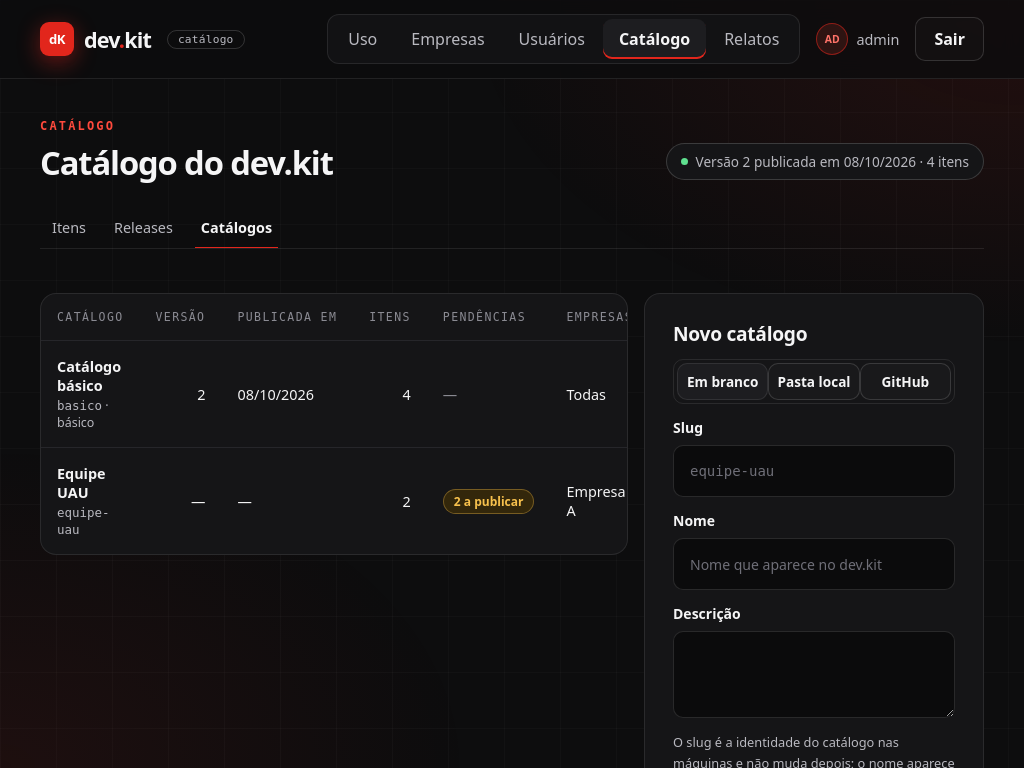
Test: Aba Catálogos do admin (US #461) › recusa o slug inválido antes da API, e mostra o detail do 409 da API
The image size is (1024, 768).
Type "X" into the field labelled "Nome".
click(814, 564); type("X")  # box [673,538,955,590]
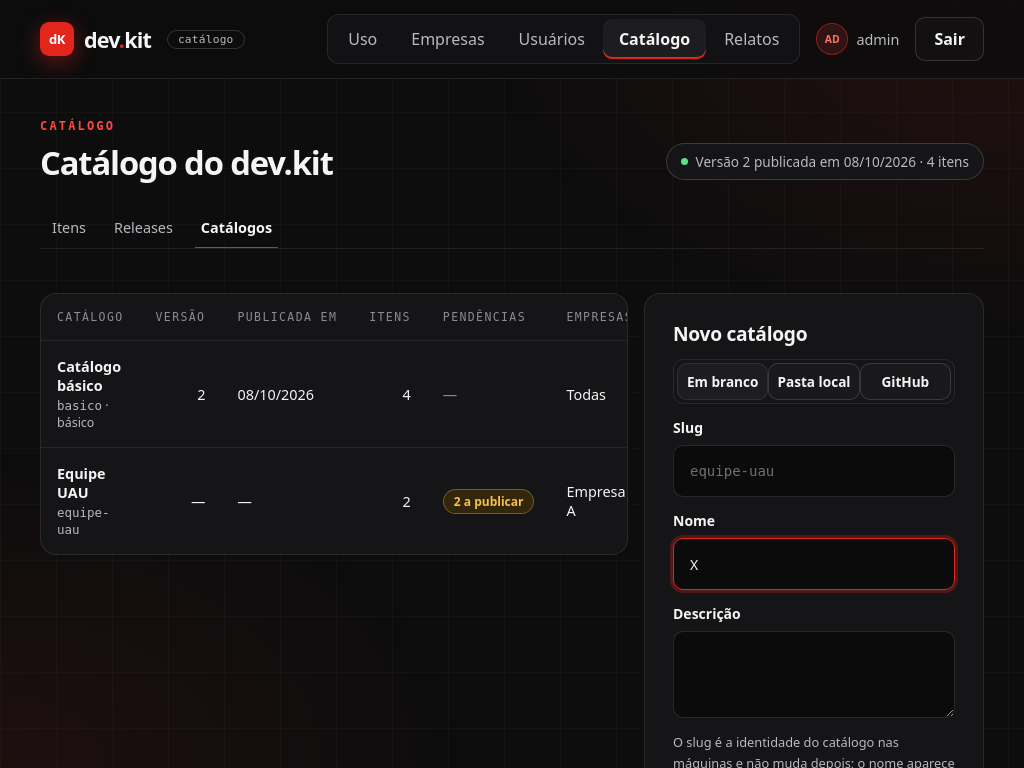
Type "a" into the field labelled "Slug".
click(814, 471); type("a")  # box [673,445,955,497]
(page scrolled)
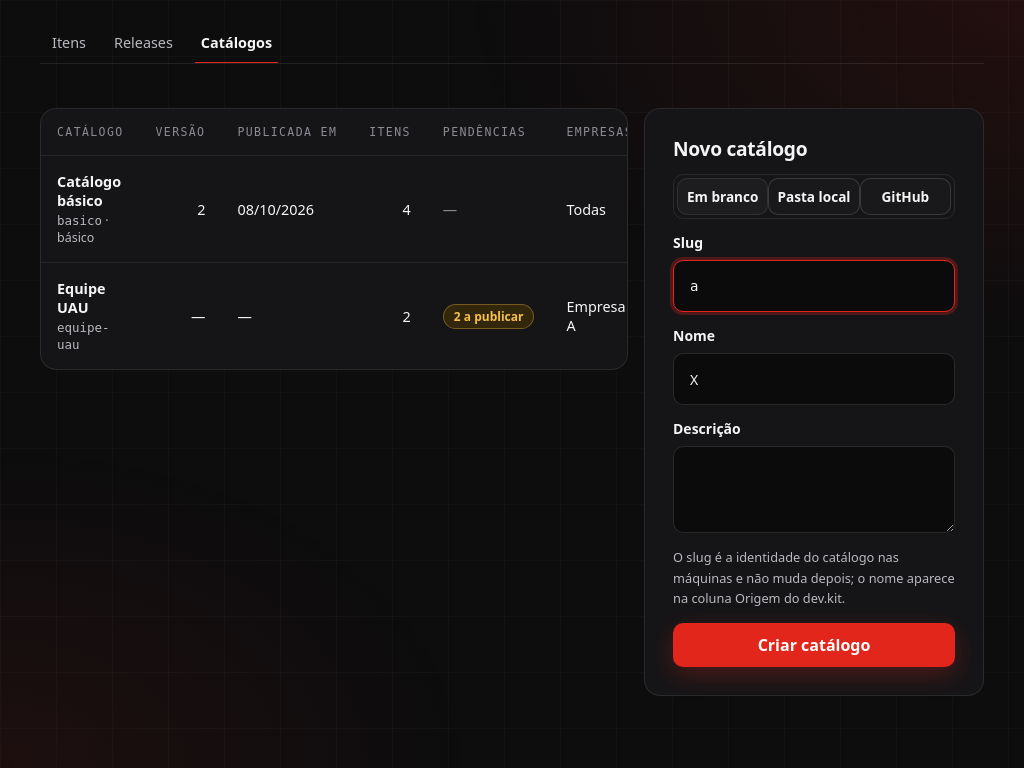
Click the button "Criar catálogo".
click(814, 645)  # box [673,623,955,667]
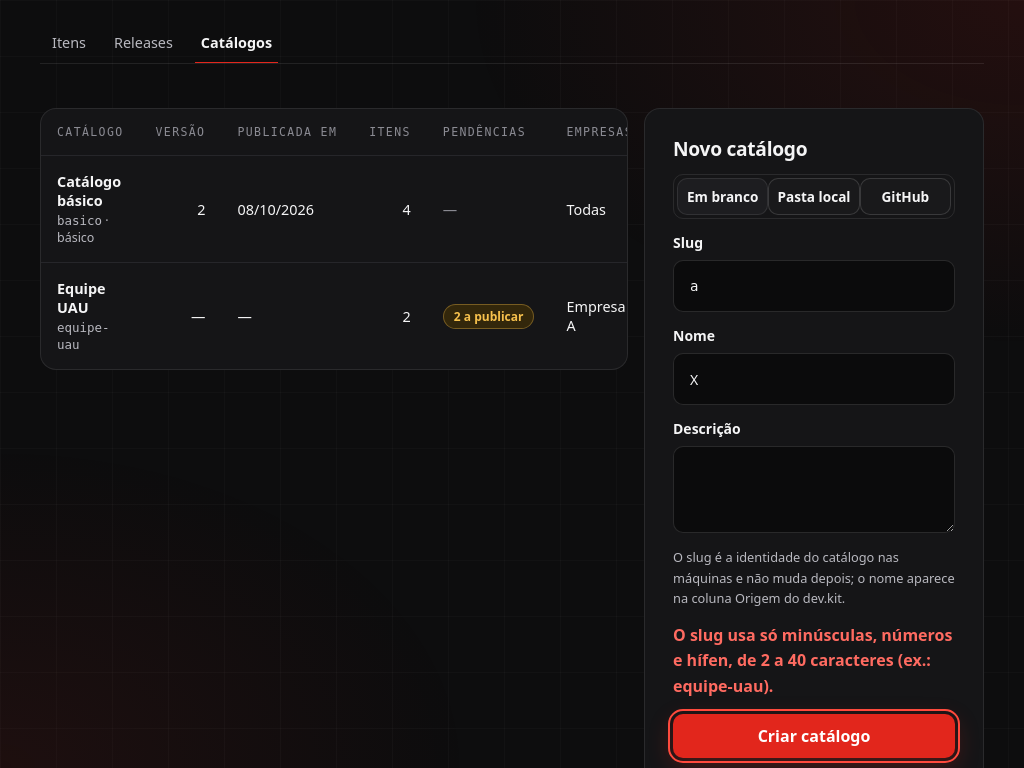
Result: the message shows "de 2 a 40 caracteres" at [673,624,952,697]
Replace the text in the field labelled "Slug" with "equipe-uau" at (814, 286), box [673,260,955,312]
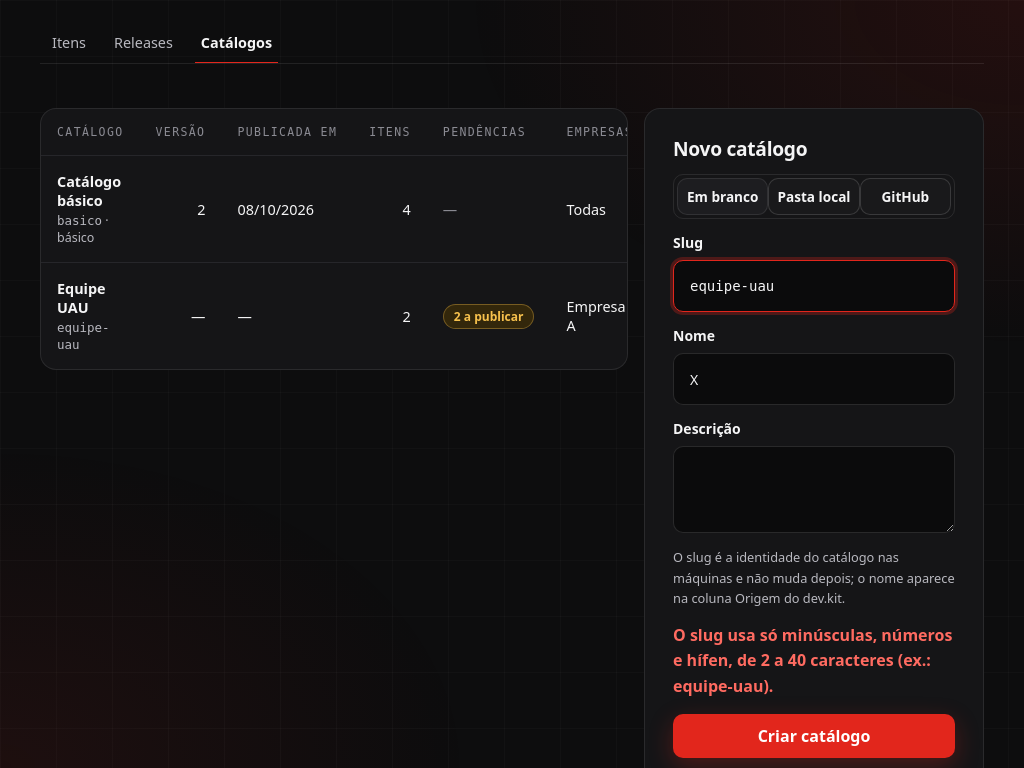
Click the button "Criar catálogo".
click(814, 736)  # box [673,714,955,758]
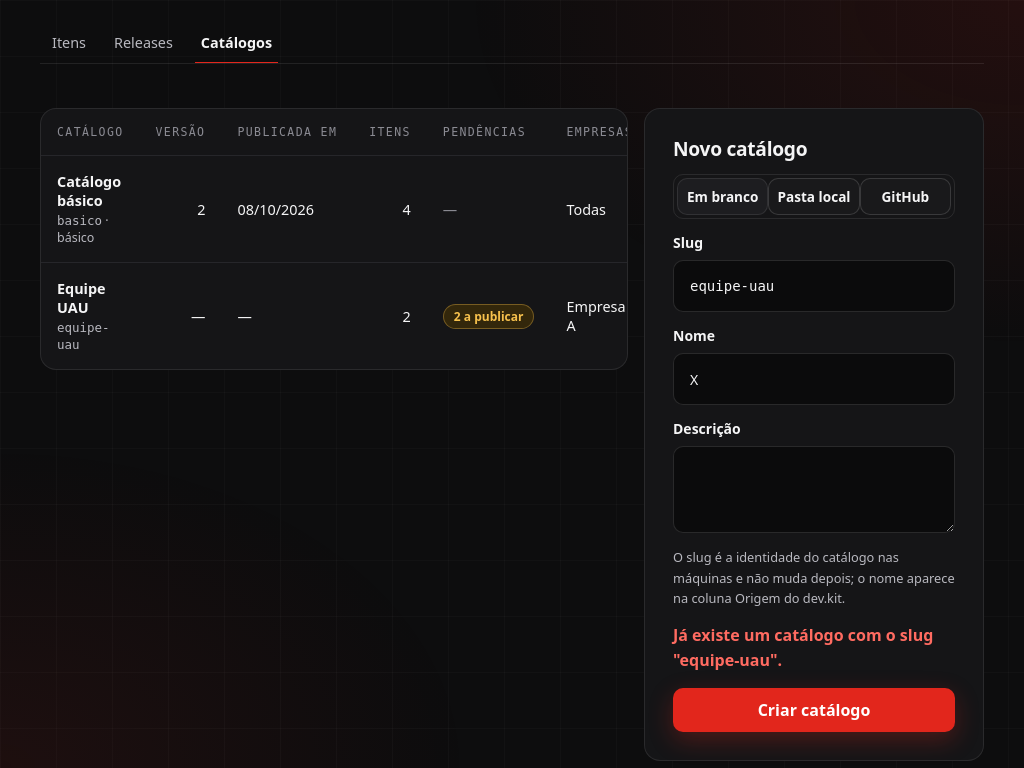
Result: the message reads "Já existe um catálogo com o slug \"equipe-uau\"." at [673,624,933,671]
